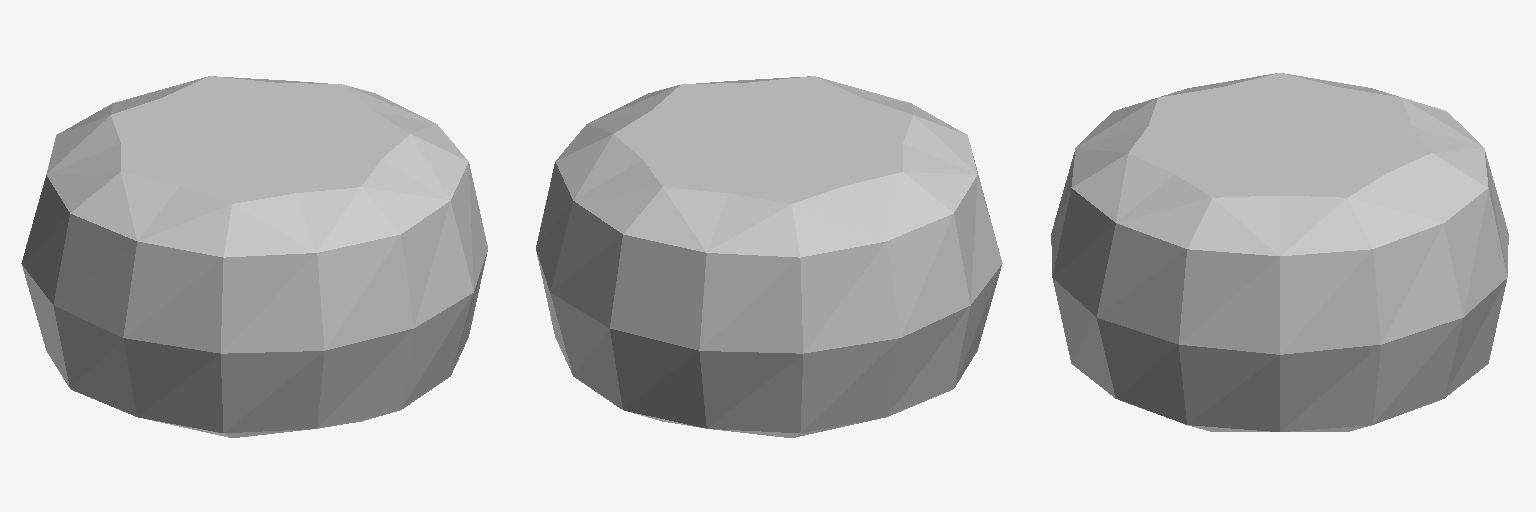
The model's file is rock2_low.obj.
The picture shows the model from 3 angles: view 1: azimuth 30°, elevation 25°; view 2: azimuth 150°, elevation 25°; view 3: azimuth 270°, elevation 25°; orthographic projection.
Visible parts, largest first — view 1: pCylinder1; view 2: pCylinder1; view 3: pCylinder1.
Boxes of the visible parts, x1=… form: pCylinder1: x1=21, y1=76, x2=487, y2=437; pCylinder1: x1=536, y1=76, x2=1002, y2=437; pCylinder1: x1=1051, y1=73, x2=1508, y2=431.
Size of the model in its own units: 3.38 by 1.87 by 3.3.